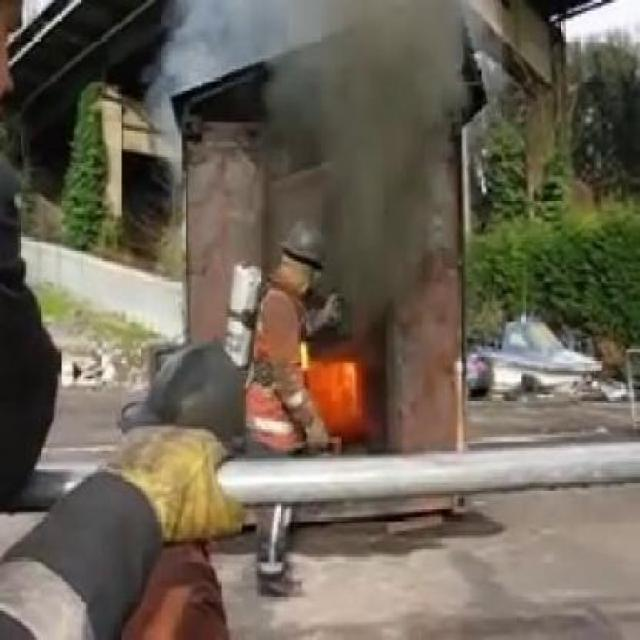fire: (310, 358, 366, 416)
smoke: (298, 64, 458, 205), (162, 4, 264, 62)
